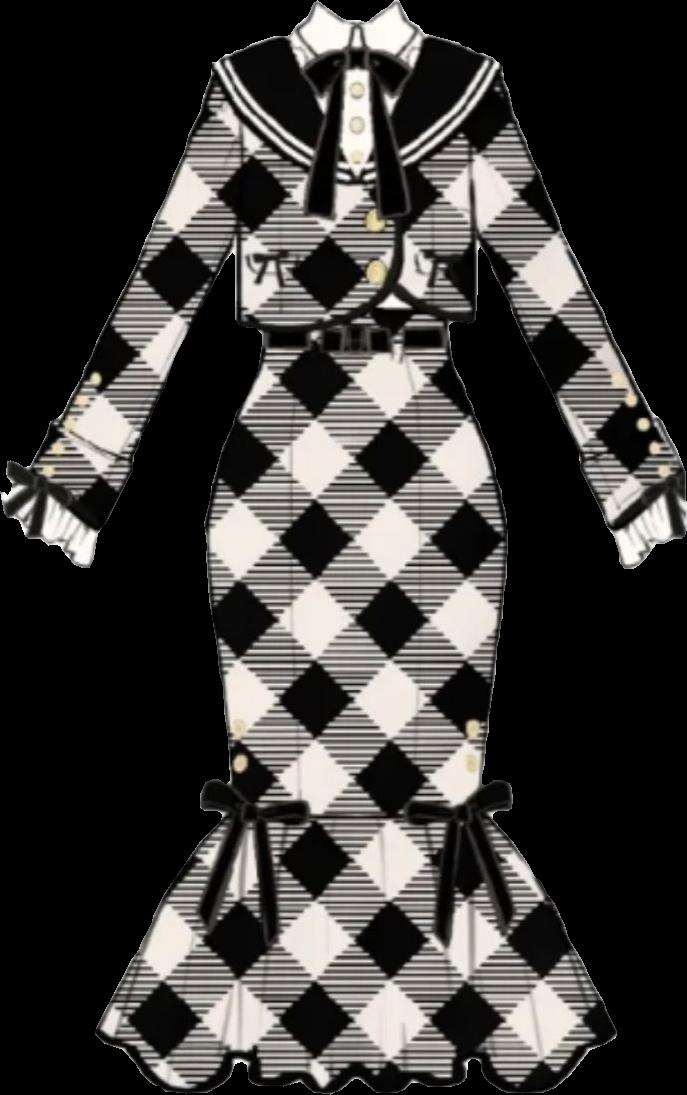Bodice: (210, 0, 502, 348)
Hemline: (91, 1021, 618, 1094)
Neckline: (278, 33, 432, 184), (310, 0, 404, 28)
Skirt: (96, 349, 614, 1094)
Sleeve: (1, 74, 237, 567), (478, 71, 685, 568)
Sleeveline: (468, 73, 516, 206), (206, 64, 245, 198)
Waistline: (237, 165, 410, 332), (208, 62, 365, 186), (356, 62, 507, 186), (217, 802, 494, 825), (384, 278, 476, 326), (259, 338, 450, 357)
